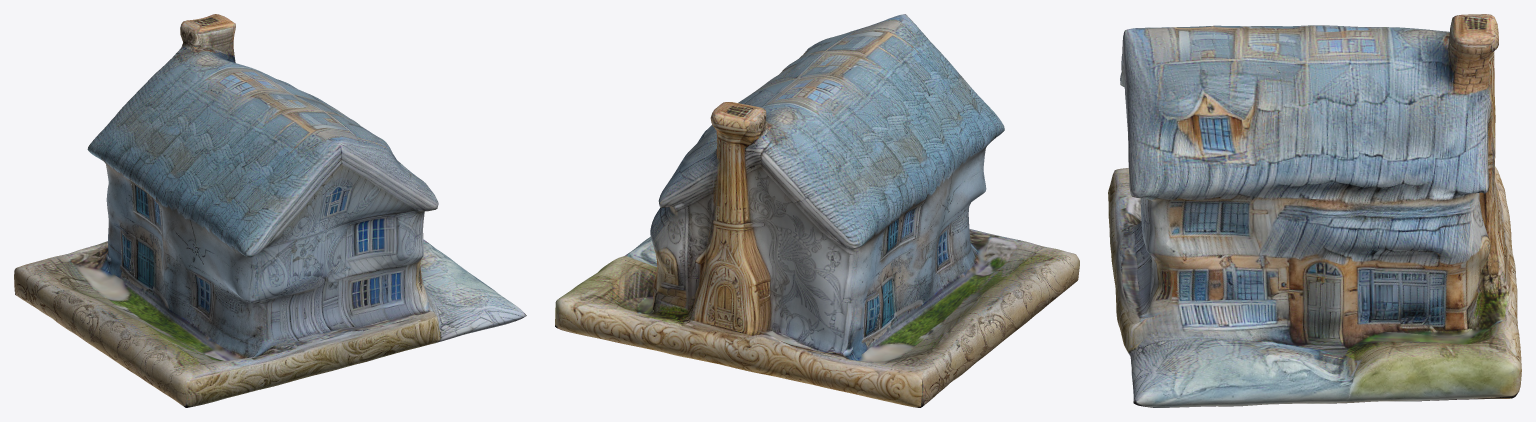
File: house_0328061821_refine.fbx
3 renders of one model, left to right at view 1: azimuth 30°, elevation 25°; view 2: azimuth 150°, elevation 25°; view 3: azimuth 270°, elevation 25°, orthographic. The views are drawn at different scales.
Visible parts, largest first — view 1: Mesh_0; view 2: Mesh_0; view 3: Mesh_0.
Boxes of the visible parts, <box> form: Mesh_0: <box>14,14,526,407</box>; Mesh_0: <box>555,14,1079,407</box>; Mesh_0: <box>1108,14,1521,407</box>.
Size of the model in its own units: 120 by 80.16 by 99.26.
Materials: 1 (1 with a texture image).
